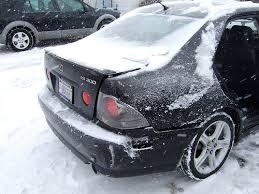Bumper: (75, 132, 152, 174), (132, 120, 203, 155)
Dickey: (46, 46, 154, 124)
